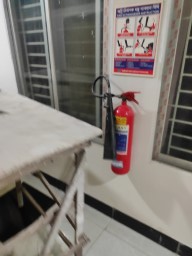fire_extinguisher: (68, 68, 132, 109)
